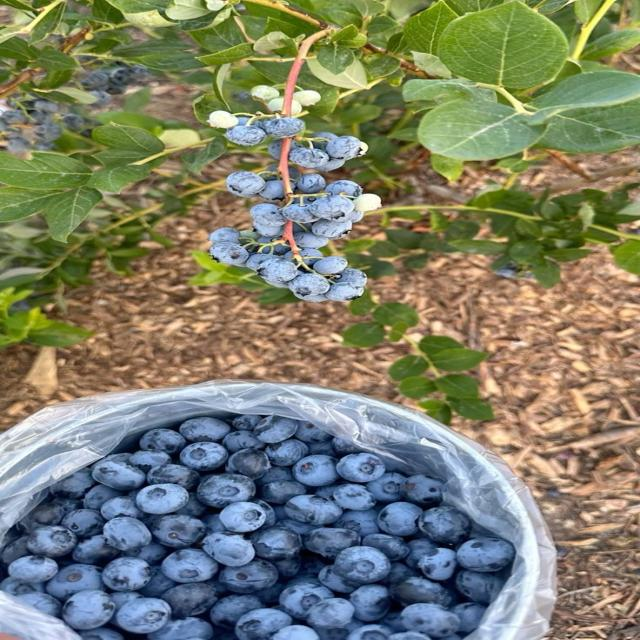blueberry: (418, 506, 472, 545), (334, 547, 390, 584), (219, 559, 278, 594), (401, 603, 459, 638), (62, 590, 114, 629), (46, 564, 103, 599), (162, 582, 217, 618), (197, 474, 255, 508), (280, 582, 333, 619), (115, 598, 171, 633), (458, 537, 514, 572), (161, 549, 218, 582), (202, 531, 255, 566), (152, 515, 205, 548), (235, 609, 293, 639), (285, 495, 342, 525), (390, 578, 451, 606), (251, 526, 301, 560), (210, 595, 261, 628), (456, 570, 503, 605), (305, 528, 359, 558), (103, 558, 152, 591), (104, 517, 152, 550), (136, 484, 188, 514), (349, 584, 391, 621), (27, 526, 77, 557), (93, 461, 146, 490), (379, 502, 422, 536), (293, 455, 339, 486), (337, 453, 386, 482), (307, 598, 354, 628), (147, 618, 213, 639), (50, 469, 96, 499), (220, 502, 266, 532), (72, 535, 119, 564), (180, 442, 227, 471), (18, 503, 65, 532), (418, 548, 458, 582), (147, 464, 199, 490), (226, 449, 271, 479), (8, 556, 58, 582), (61, 509, 105, 538), (180, 417, 230, 442), (403, 475, 442, 507), (363, 534, 409, 561), (335, 509, 379, 537), (254, 416, 298, 443), (265, 438, 308, 465), (140, 429, 186, 454), (140, 566, 176, 597), (334, 484, 376, 510), (451, 603, 486, 634), (17, 593, 61, 617), (226, 171, 266, 197), (288, 274, 329, 299), (130, 450, 172, 473), (311, 196, 353, 219), (100, 496, 142, 519), (326, 136, 366, 160), (405, 539, 437, 569), (296, 552, 326, 583), (84, 485, 121, 510), (127, 542, 169, 564), (0, 536, 30, 566), (382, 562, 418, 586), (289, 147, 330, 168), (261, 117, 304, 137), (250, 203, 287, 226), (226, 125, 266, 146), (210, 243, 248, 265), (249, 498, 278, 526), (0, 577, 44, 595), (295, 421, 332, 442), (312, 220, 352, 239), (282, 203, 317, 224), (254, 582, 285, 605), (176, 494, 207, 517), (271, 625, 319, 639), (347, 624, 391, 639), (91, 453, 132, 469), (325, 180, 363, 197), (294, 231, 328, 249), (314, 256, 347, 274), (273, 557, 300, 579), (279, 519, 316, 535), (297, 173, 326, 193), (110, 592, 142, 610), (335, 268, 367, 286), (260, 180, 285, 203), (332, 438, 361, 457), (80, 627, 124, 639), (381, 611, 406, 632), (34, 123, 62, 141), (254, 222, 284, 238), (233, 415, 262, 431), (54, 498, 83, 514), (202, 514, 225, 534), (209, 228, 239, 243), (314, 483, 339, 501), (310, 132, 338, 148), (245, 254, 272, 270), (89, 90, 112, 108), (7, 137, 31, 154), (62, 114, 86, 131), (34, 99, 59, 113), (2, 110, 27, 124), (316, 159, 345, 171), (388, 631, 430, 639)
